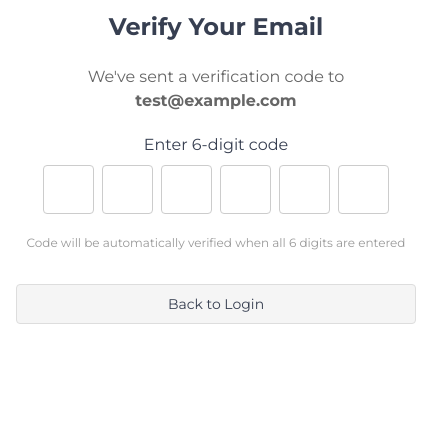
Test: EmailVerificationPage › Failed email verification › should handle expired code error
Step 1. Type "3" into the 1st field → (68, 189), box [43,165,94,214]
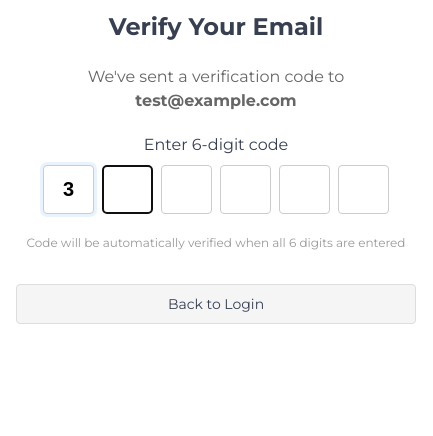
Step 2. Type "3" into the 2nd field → (128, 189), box [102,165,153,214]
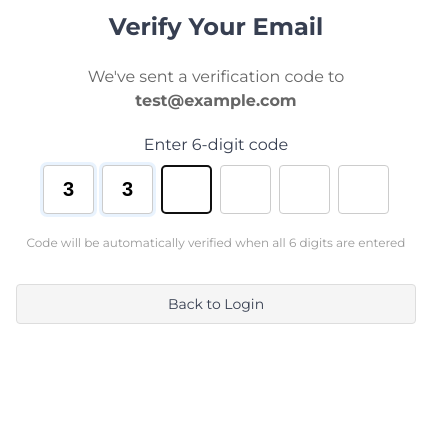
Step 3. Type "3" into the 3rd field → (186, 189), box [161,165,212,214]
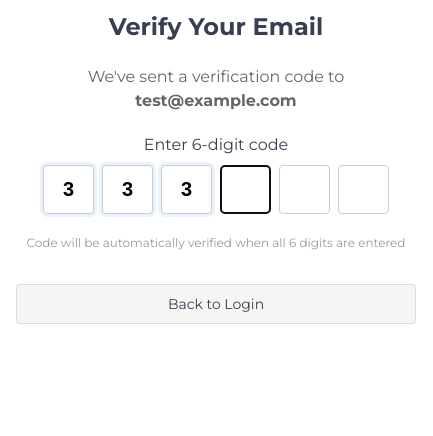
Step 4. Type "3" into the 4th field → (246, 189), box [220,165,271,214]
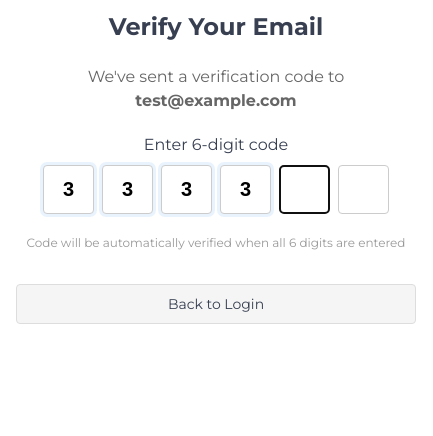
Step 5. Type "3" into the 5th field → (304, 189), box [279,165,330,214]
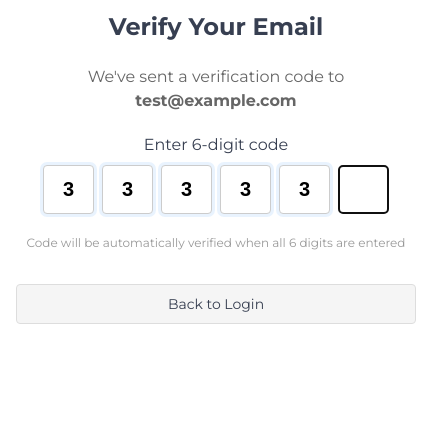
Step 6. Type "3" into the 6th field → (364, 189), box [338,165,389,214]
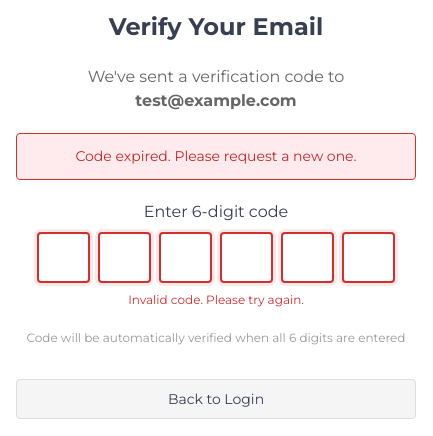
Check: the text "Code expired. Please request a new one." is shown, box [16,133,416,180]
